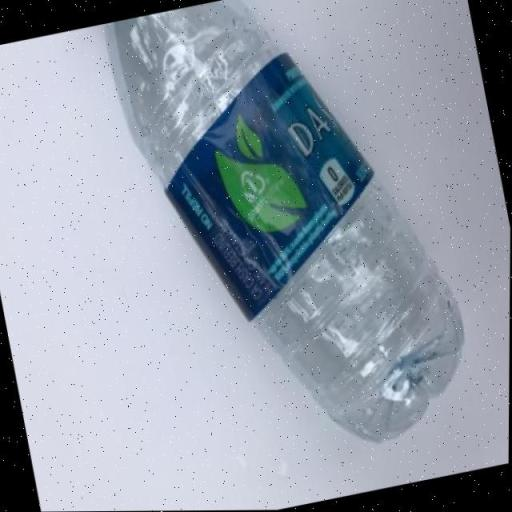plastic: (97, 0, 483, 479)
